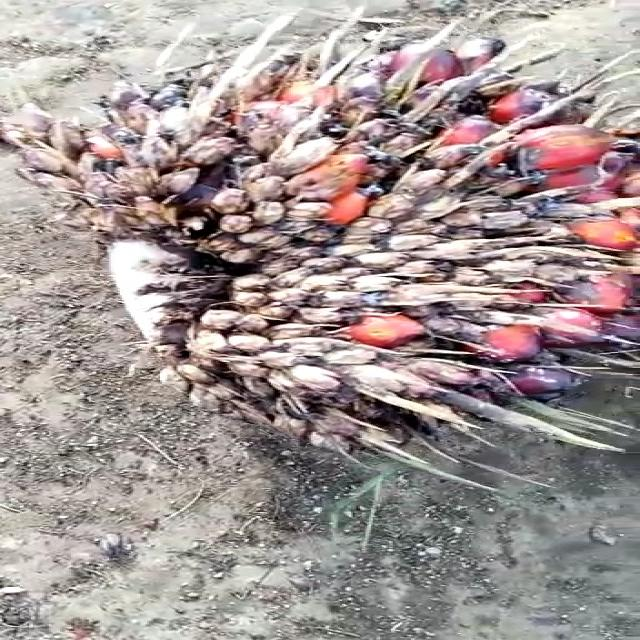palm oil: (18, 7, 640, 490)
